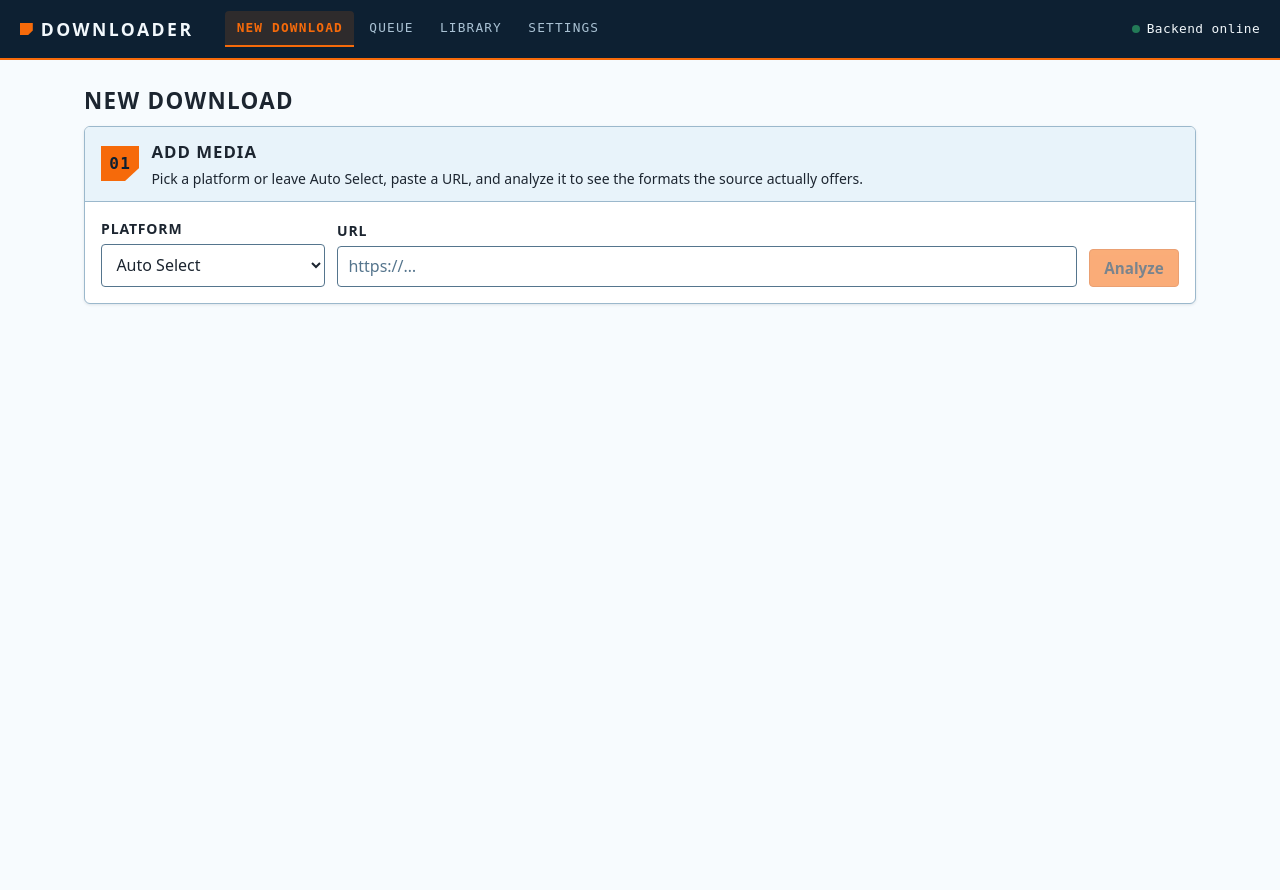
Test: CollectionSelection › reports an exact source total when known and covered by the window
In the field labelled "URL": point(707, 266) x1=337 y1=246 x2=1077 y2=287, type "https://soundcloud.com/artist/sets/test-album"
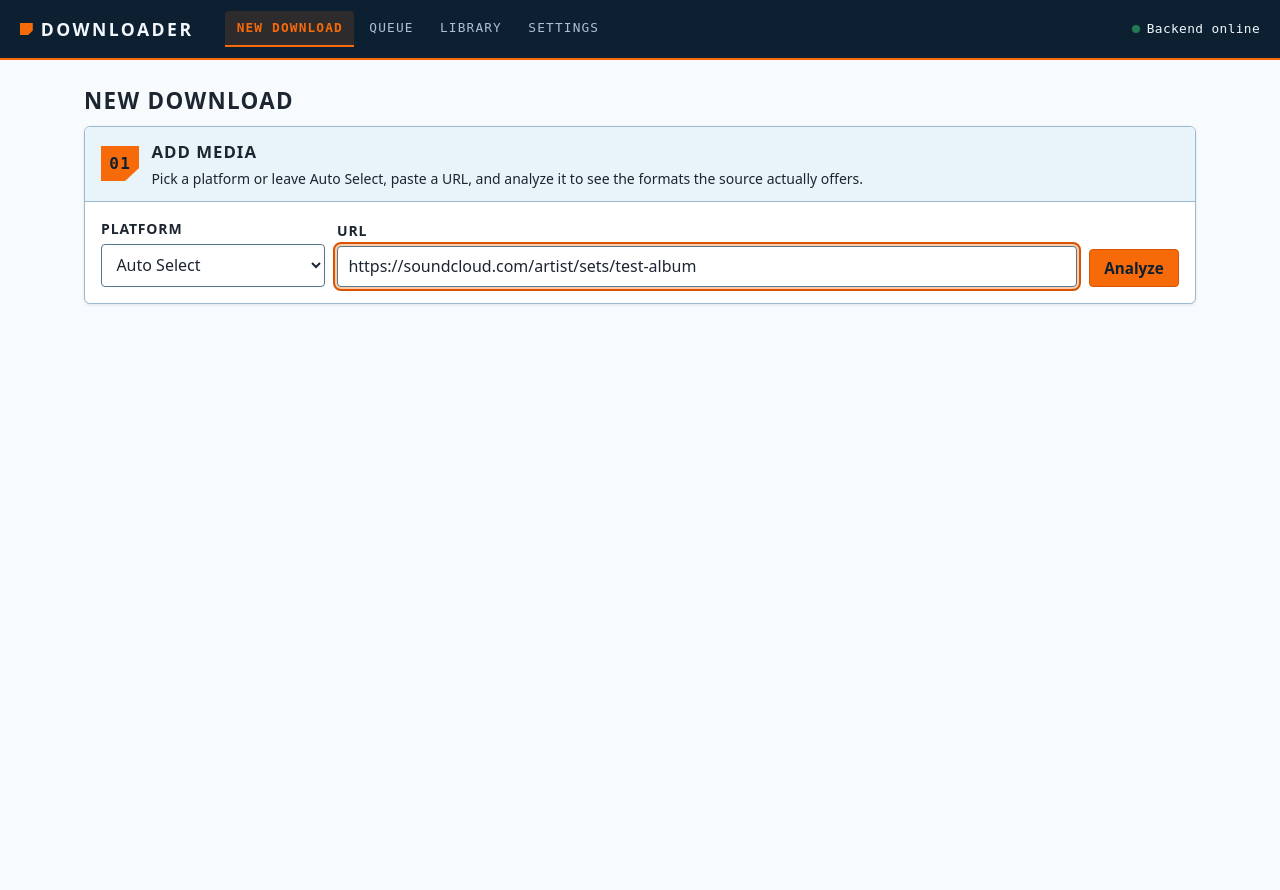
Click the button "Analyze": point(1134, 268) x1=1089 y1=249 x2=1179 y2=287
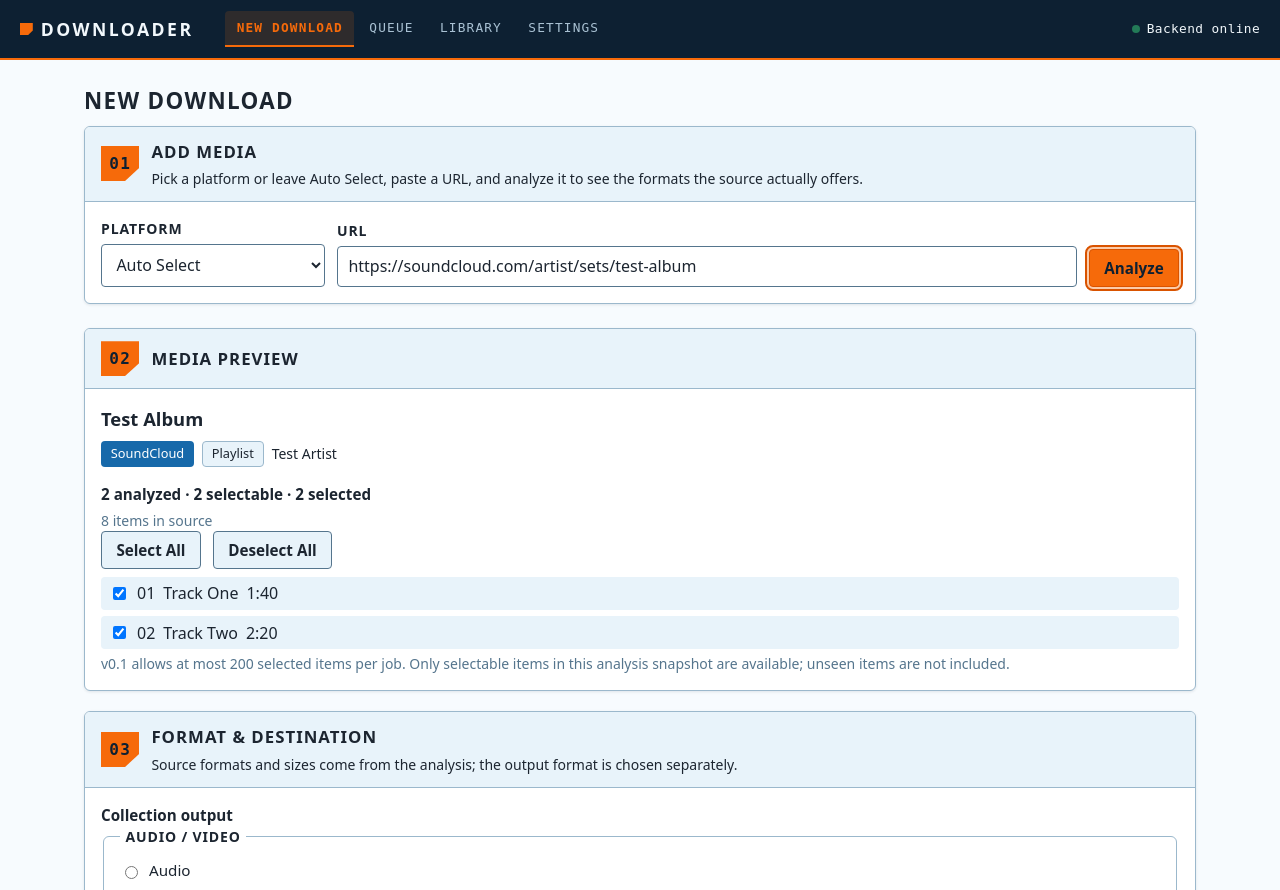
Expected: the text "Track One" is shown, x1=163 y1=582 x2=238 y2=606
Expected: the text "8 items in source" is shown, x1=101 y1=511 x2=212 y2=530
Expected: the text "v0.1 allows at most 200 selected items per job. Only selectable items in this analysis snapshot are available; unseen it" is shown, x1=101 y1=654 x2=1010 y2=674
